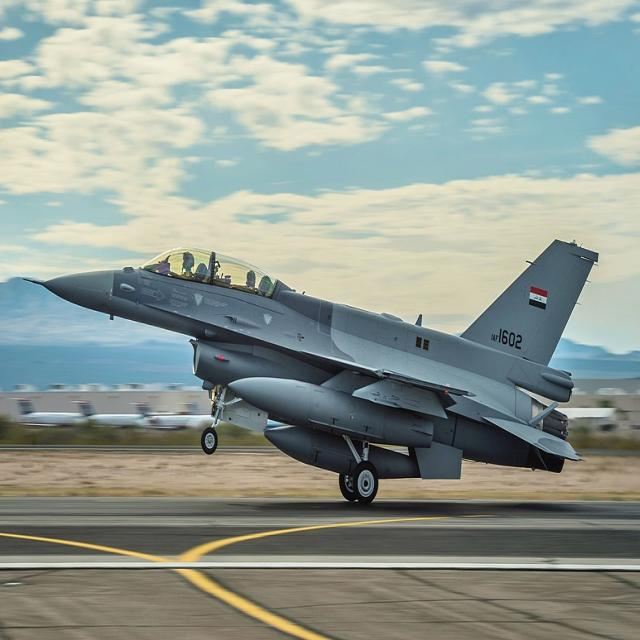MIL_Plane: (19, 238, 601, 503)
